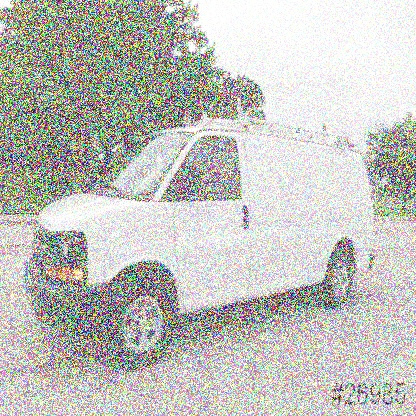Vehicle: (20, 96, 376, 374)
